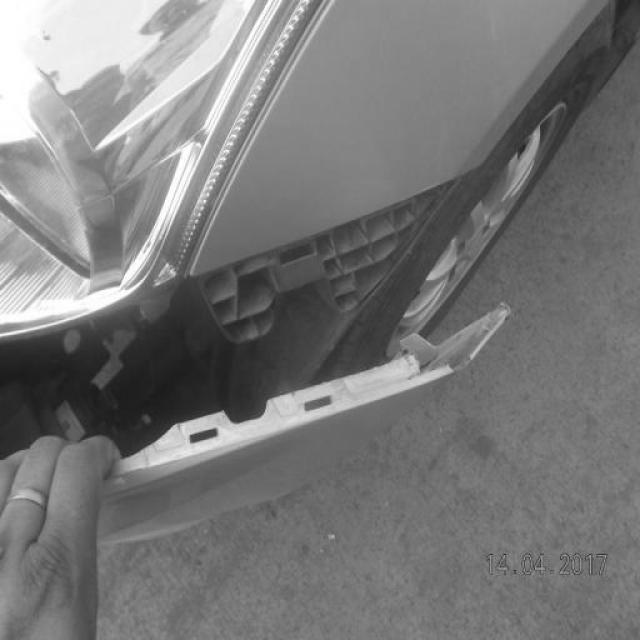misalignment: (0, 164, 513, 479)
